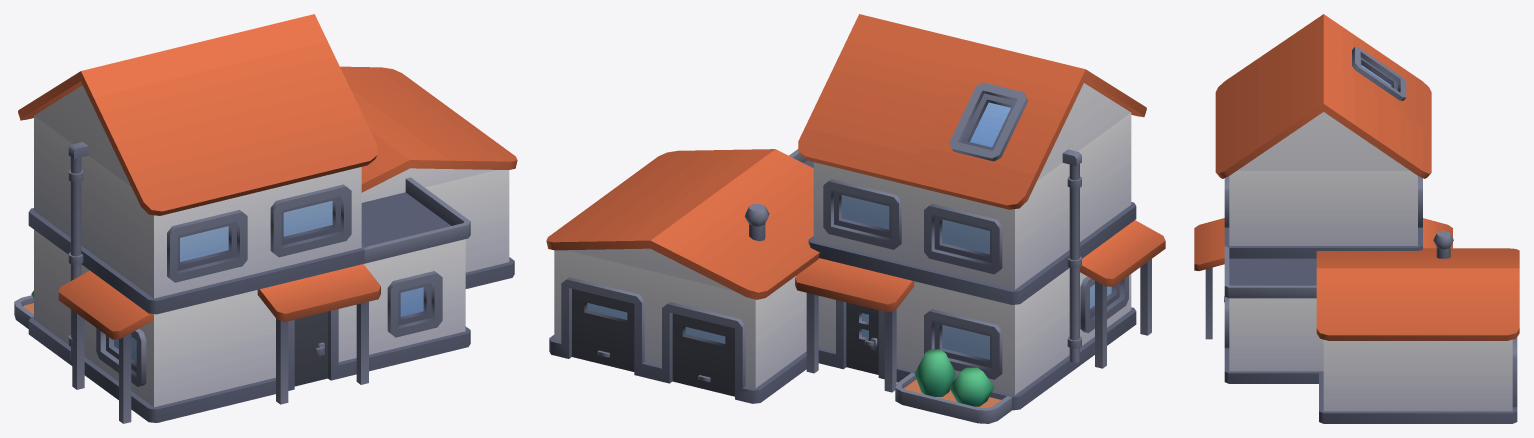
File: house_suburb_n_warm.glb
3 views of the same model, side by side, from view 1: azimuth 30°, elevation 25°; view 2: azimuth 150°, elevation 25°; view 3: azimuth 270°, elevation 25° (orthographic). The views are drawn at different scales.
Visible parts, largest first — view 1: building-type-n; view 2: building-type-n; view 3: building-type-n.
Boxes of the visible parts, bbox=[...] form: building-type-n: bbox=[14, 14, 517, 423]; building-type-n: bbox=[546, 14, 1165, 423]; building-type-n: bbox=[1194, 14, 1519, 423].
Size of the model in its own units: 1.78 by 1.14 by 1.38.
Materials: 1 (1 with a texture image).
